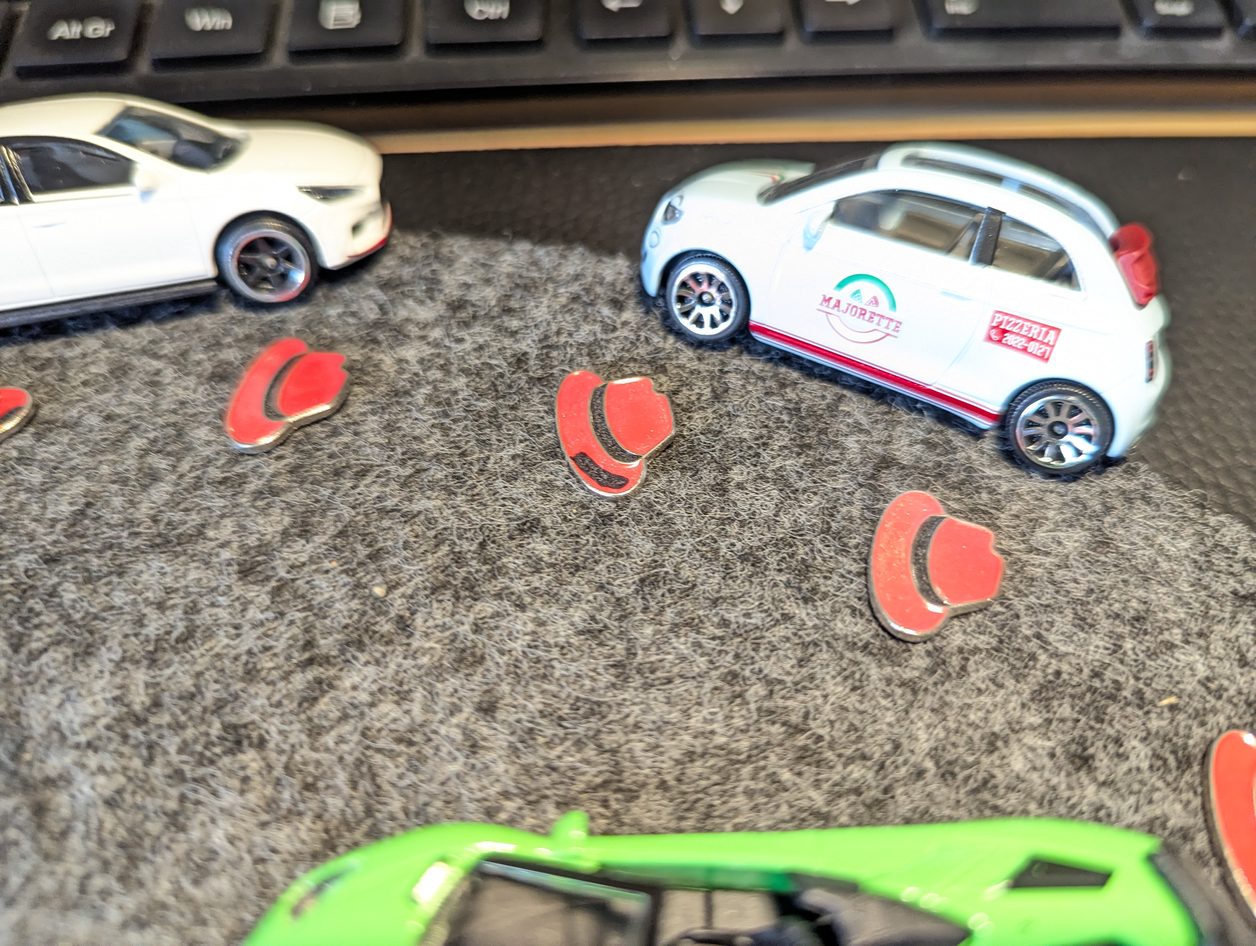Car: (640, 91, 1202, 562), (0, 44, 460, 366)
Red-Hat: (858, 464, 1017, 678), (221, 324, 394, 480), (539, 348, 698, 516)
Scratch: (556, 426, 664, 511)
